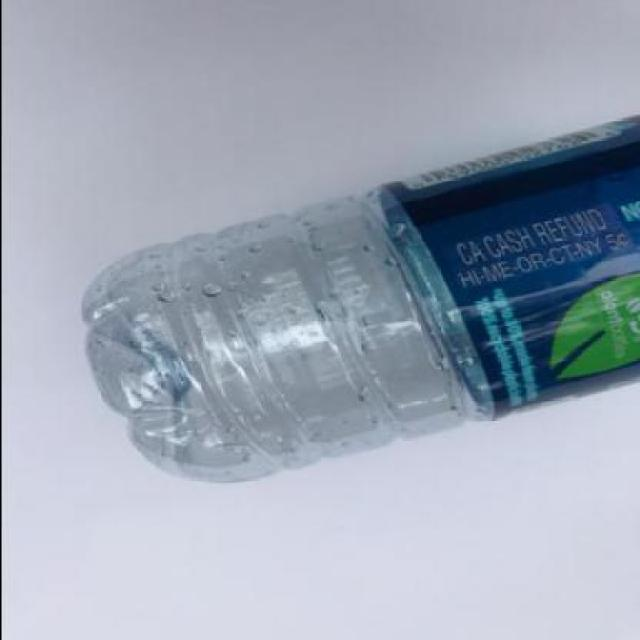PLASTIC: (77, 114, 638, 483), (374, 115, 638, 420)
